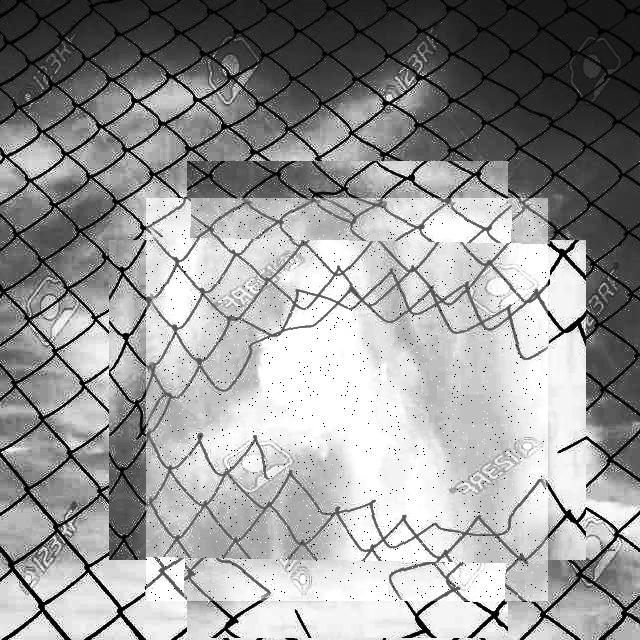anomaly-fence: (146, 198, 548, 601)
